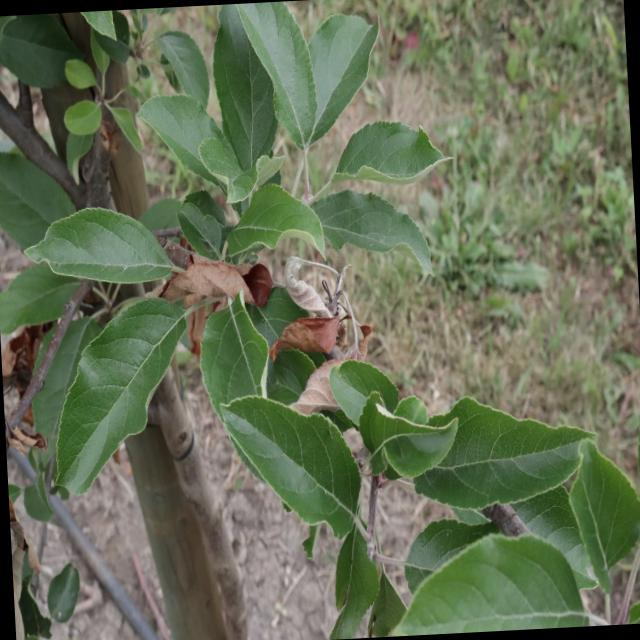-FireBlight-: (273, 234, 377, 421), (162, 238, 278, 308)
